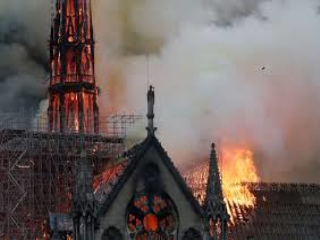fire: (216, 146, 265, 206)
smoke: (107, 9, 318, 144)
